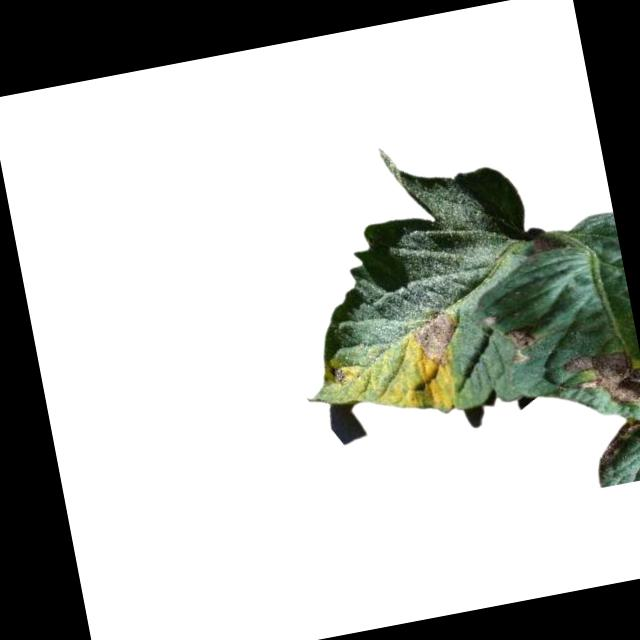Early_blight: (561, 343, 640, 474), (404, 306, 467, 379), (503, 319, 543, 367), (326, 363, 351, 392)
